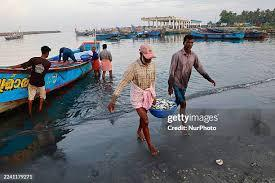fishing boat: (0, 40, 105, 114), (189, 25, 246, 40), (92, 28, 123, 41), (3, 25, 28, 41)
